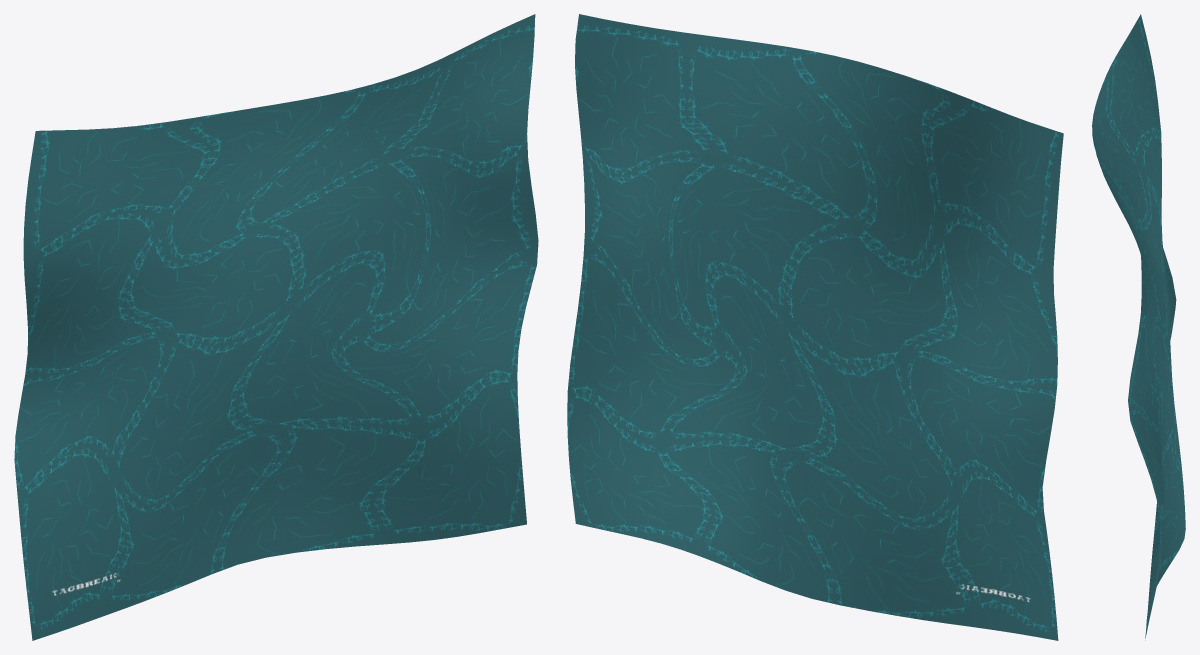
The model's file is ocean.glb.
3 renders of one model, left to right at view 1: azimuth 30°, elevation 25°; view 2: azimuth 150°, elevation 25°; view 3: azimuth 270°, elevation 25°, orthographic. The views are drawn at different scales.
Parts seen in each view (by area): view 1: Plane; view 2: Plane; view 3: Plane.
Part boxes in pixels (box(x1,y1,x2,y2)): Plane: box(14, 14, 538, 640); Plane: box(567, 14, 1063, 640); Plane: box(1092, 14, 1185, 640).
Bounding box in the file's own units: 2.02 × 2 × 0.3968.
Materials: 1 (1 with a texture image).
